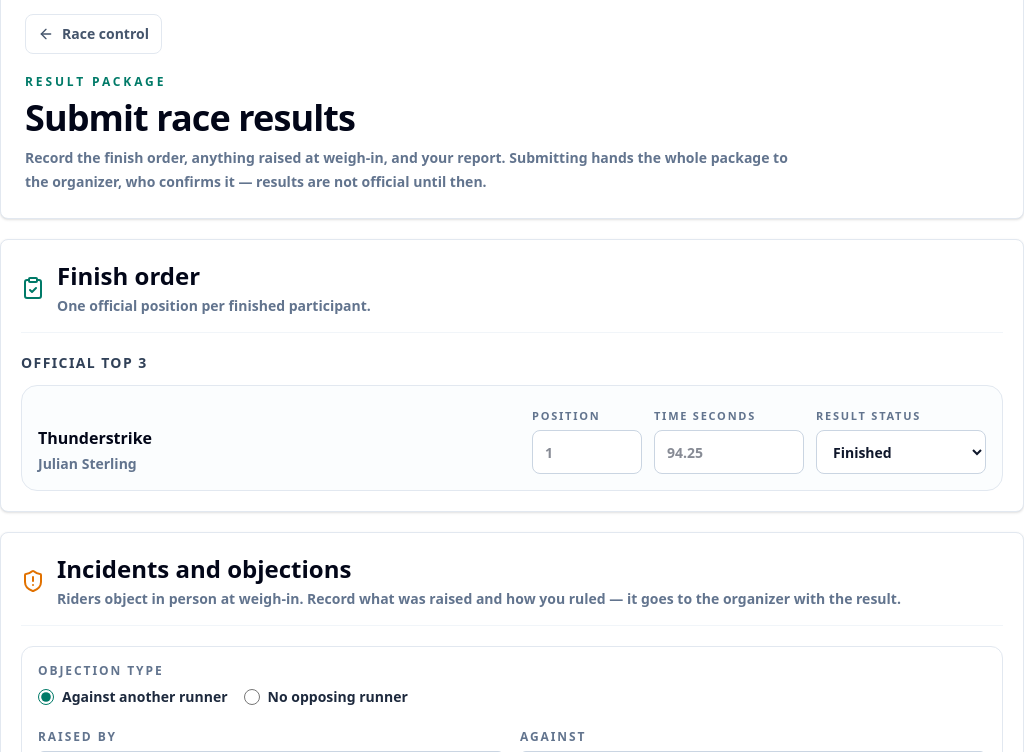
Scenario: SubmitResultsPage › keeps a recorded objection visible with no way to delete it
Expected: the heading "Submit race results" is shown, [25,93,355,142]
Click the radio button labelled "No opposing runner": (252, 697) [244,689,260,705]
(page scrolled)
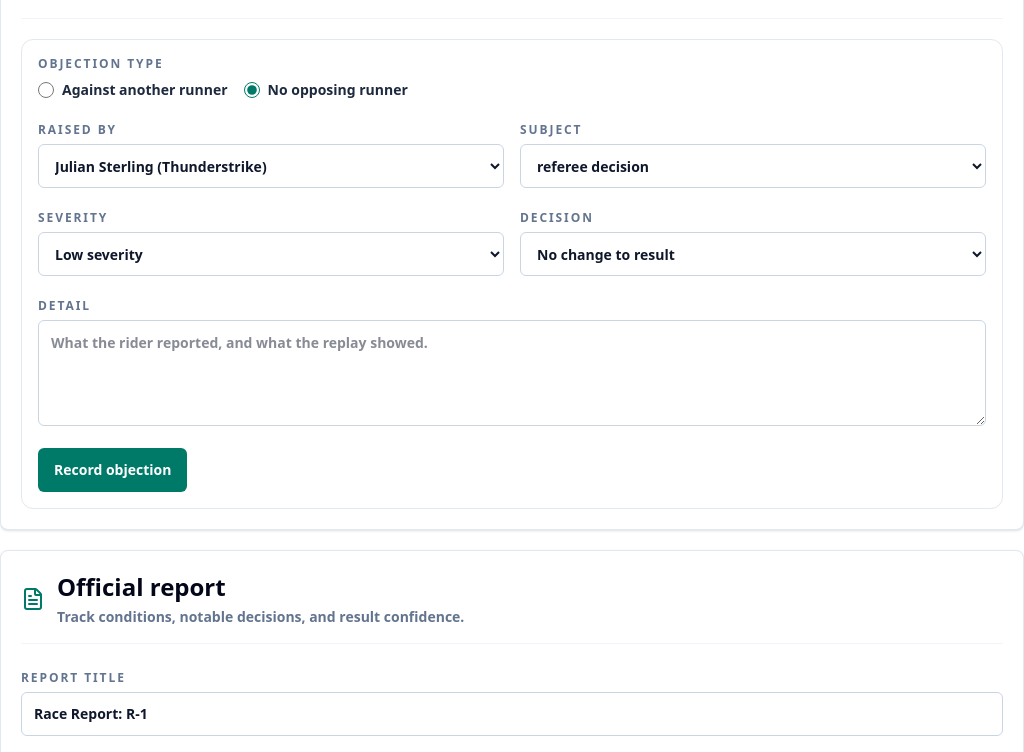
In the text box labelled "Detail": (512, 373) [38,320,986,426], type "penalty was not justified"
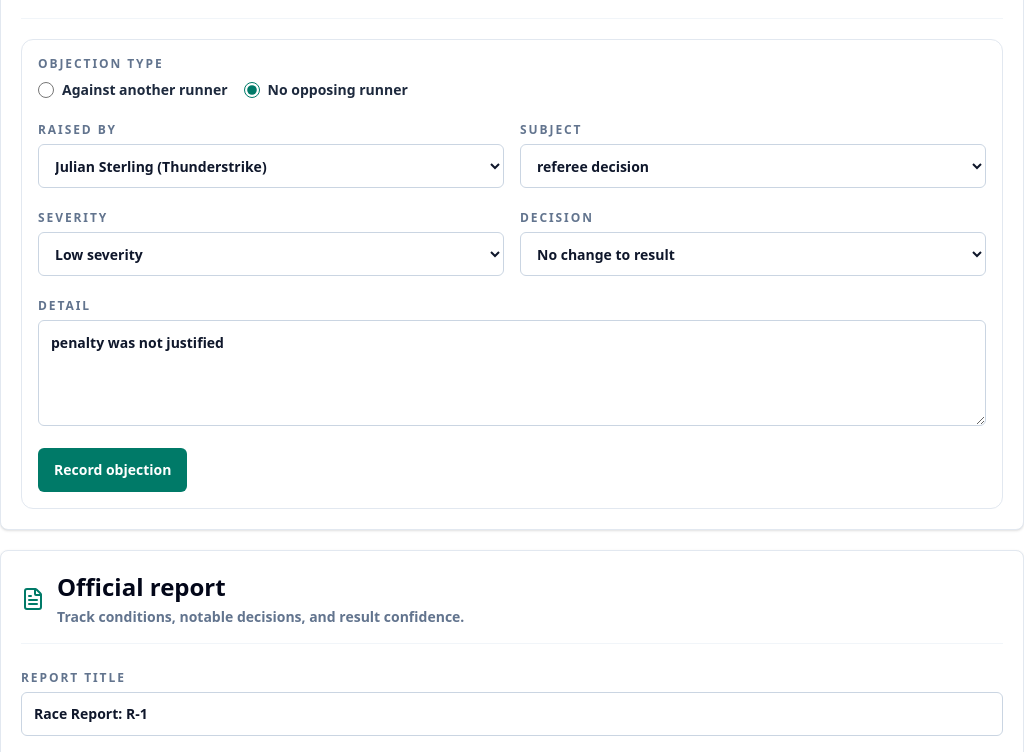
Click the button "Record objection": (113, 470) [38,448,187,492]
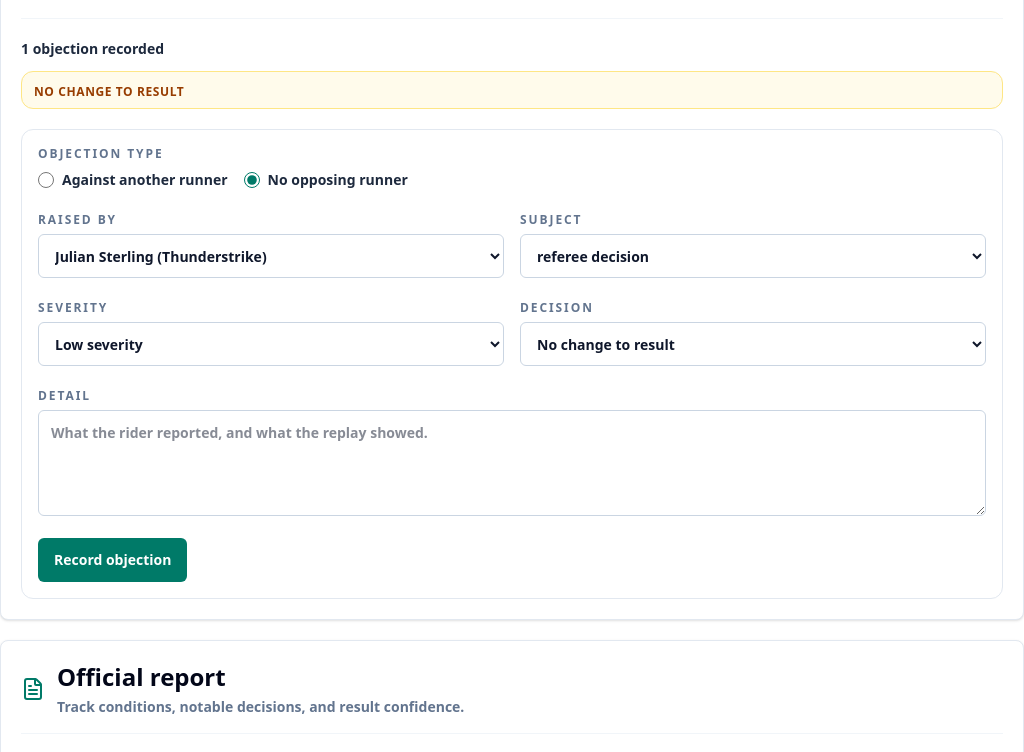
Expected: the text "1 objection recorded" is shown, [21,39,164,58]
